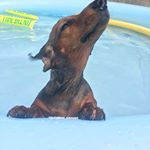puppy: (24, 1, 113, 122)
